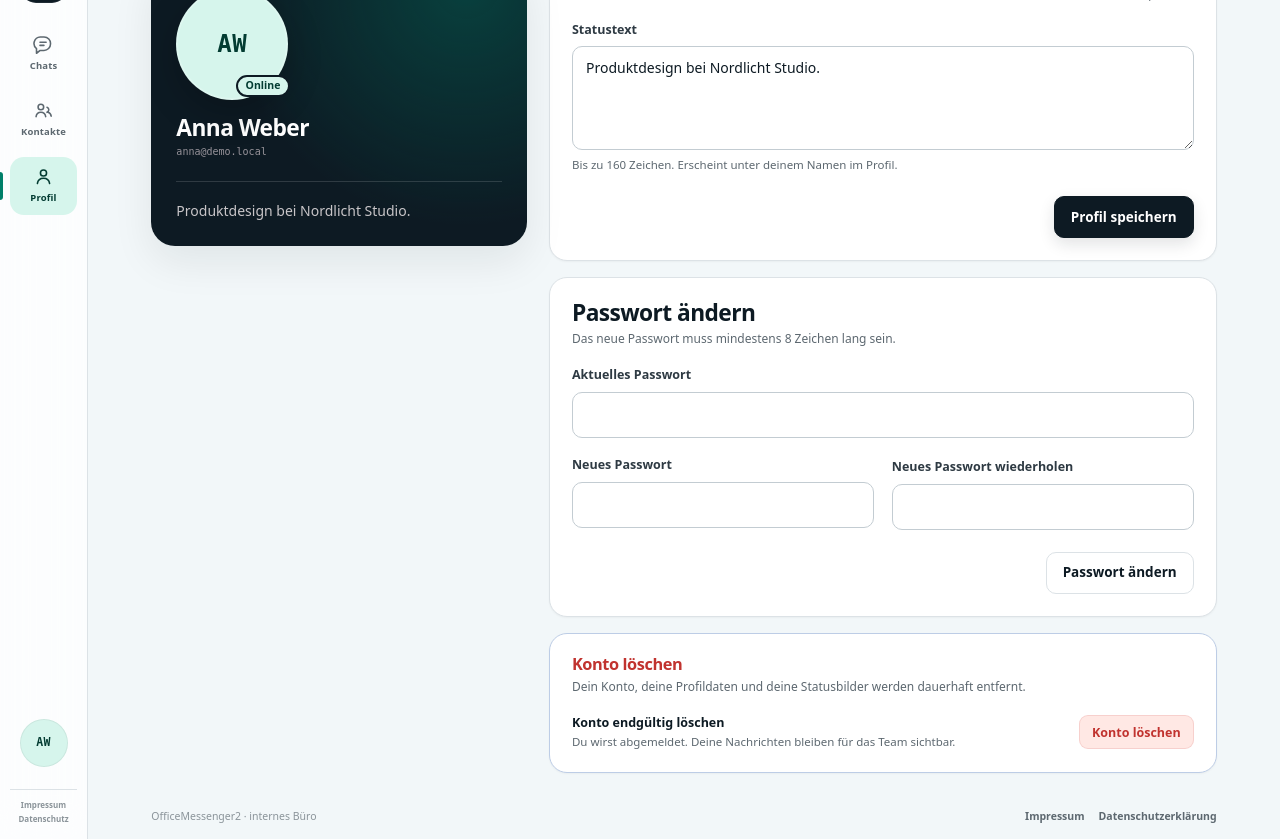
ProfilePage › changes the password and reports success
The width and height of the screenshot is (1280, 839).
(page scrolled)
Type "Demo1234!" into the password field labelled "Aktuelles Passwort". click: (883, 415)
box: [572,392,1194,438]
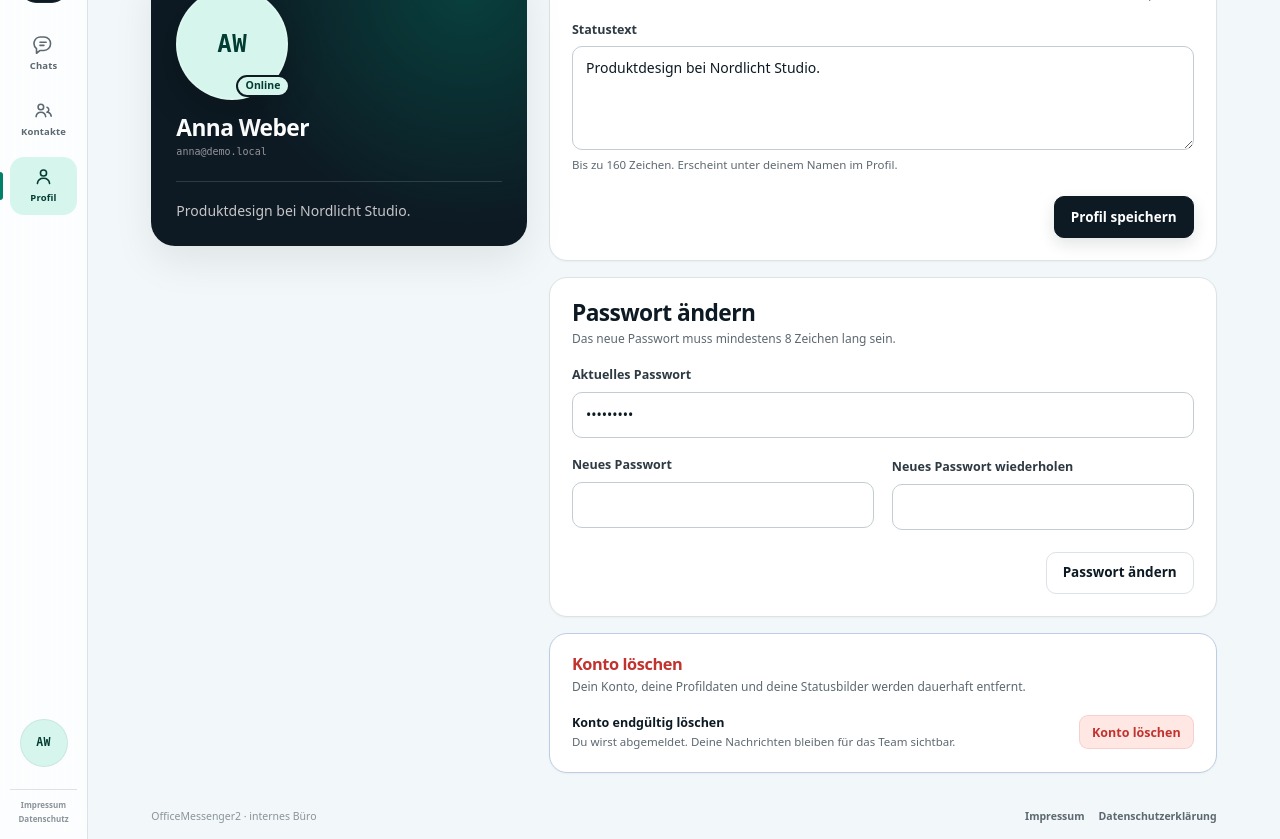
Type "NeuesPasswort1" into the password field labelled "Neues Passwort". click: (723, 504)
box: [572,482,874,528]
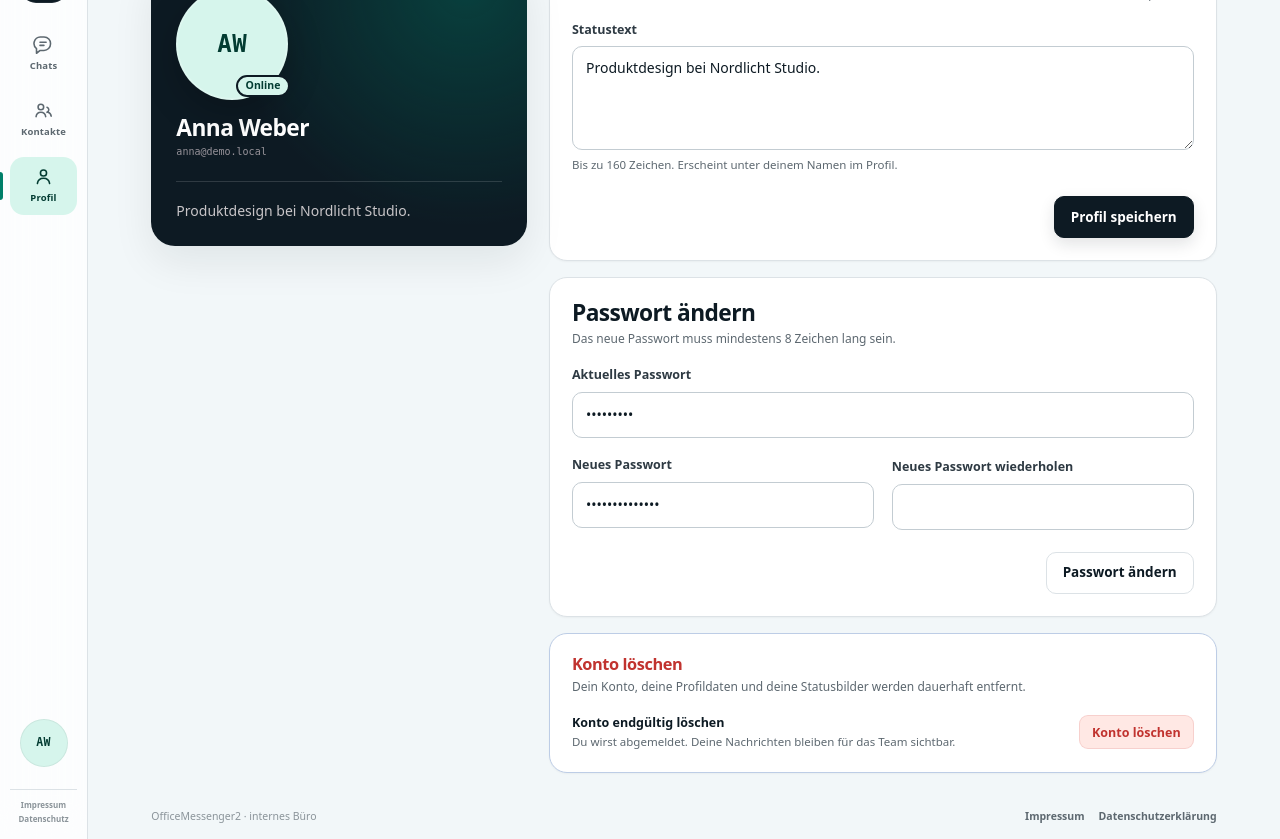
Type "NeuesPasswort1" into the password field labelled "Neues Passwort wiederholen". click: (1043, 506)
box: [892,484,1194,530]
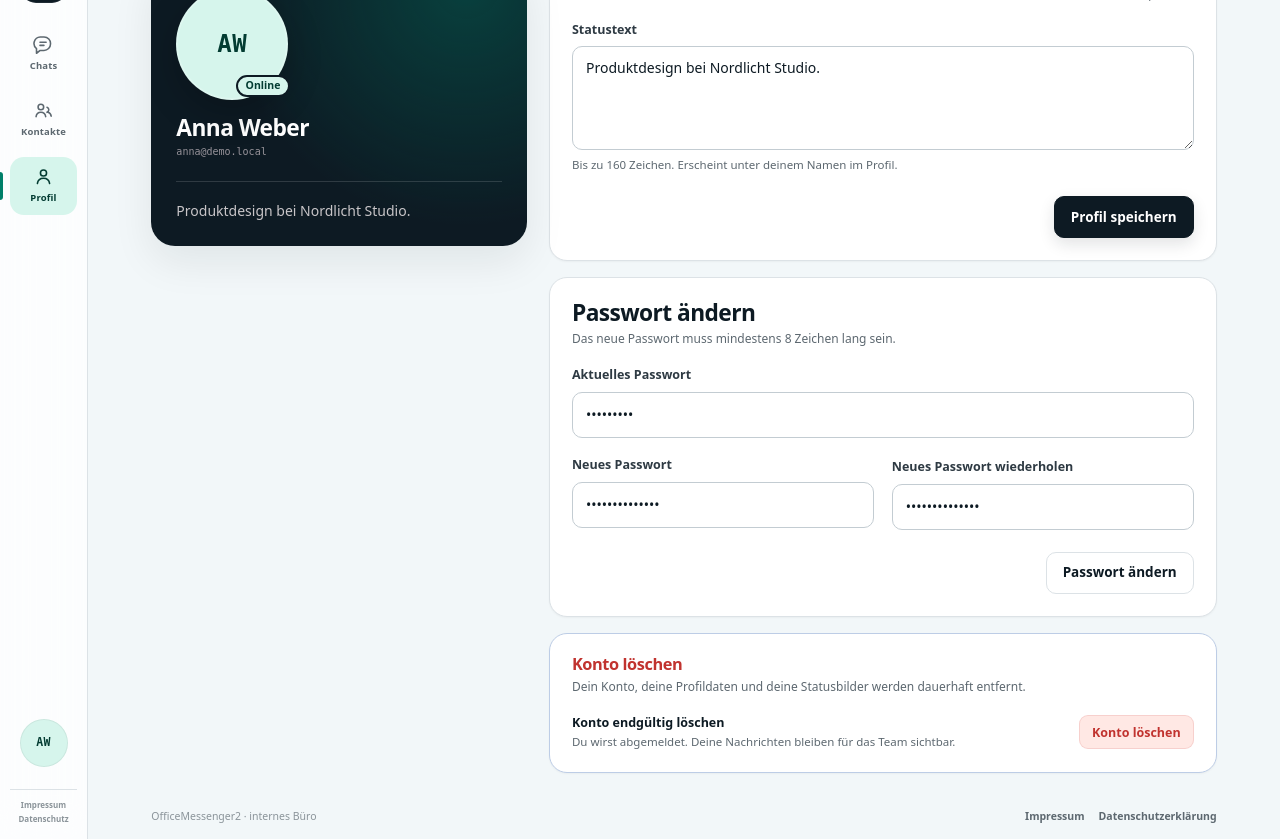
Click the button "Passwort ändern". click: (1120, 572)
box: [1046,552,1194,594]
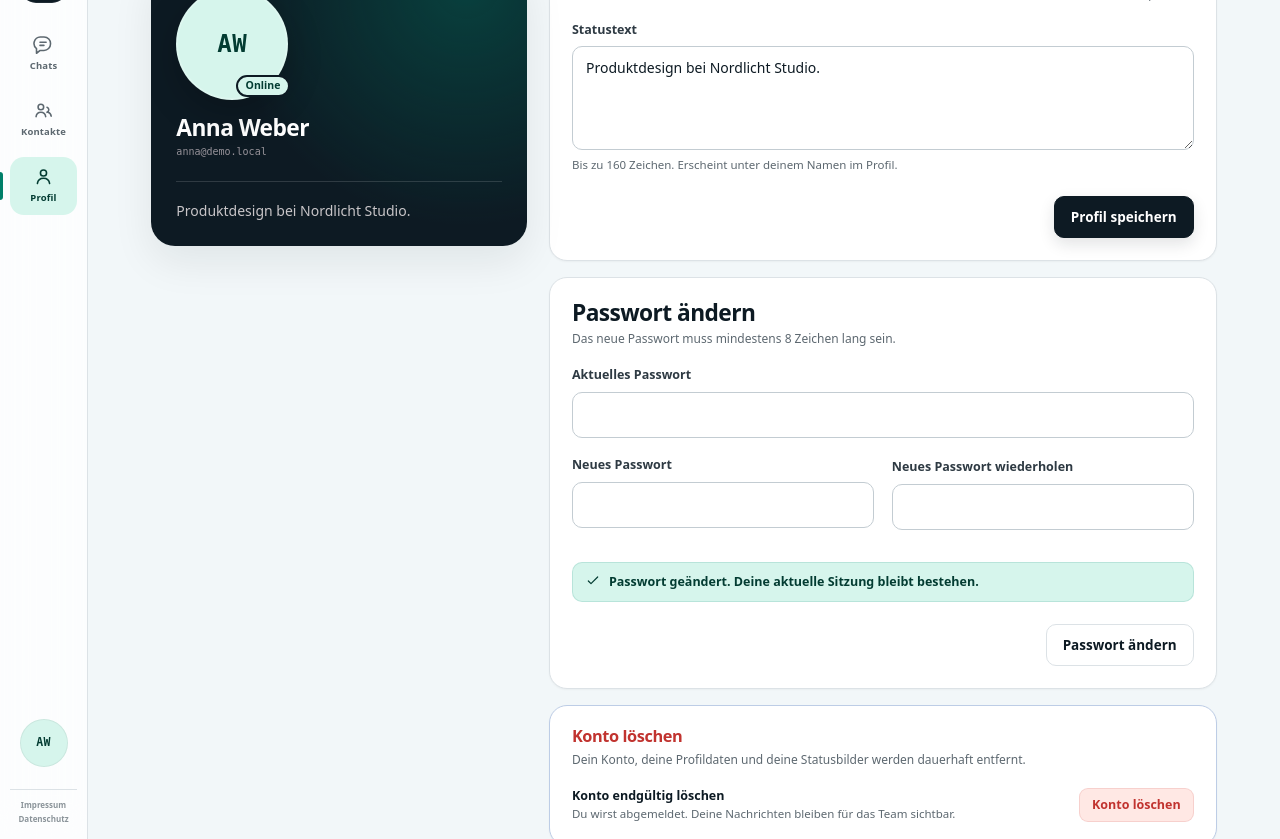
Result: the text "Passwort geändert. Deine aktuelle Sitzung bleibt bestehen." is shown at [609,572,979,591]
